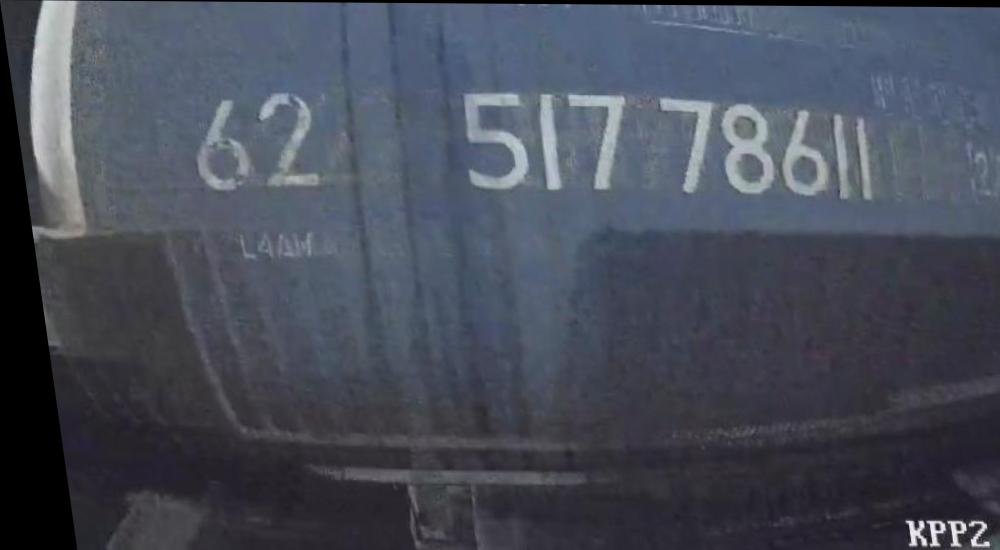Wagon-number: (448, 86, 878, 207)
